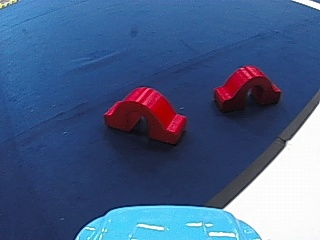bridge: (100, 82, 190, 147), (210, 61, 284, 112)
